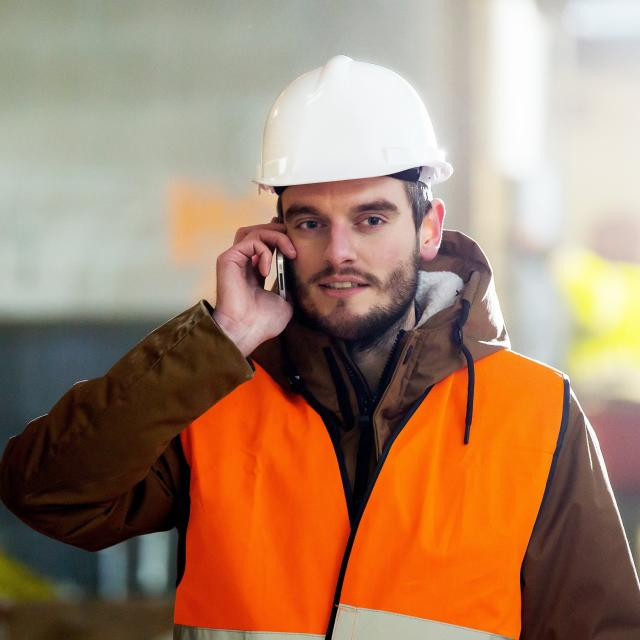Reflective-Jacket: (167, 292, 576, 640)
Safety-Helmet: (250, 53, 456, 192)
